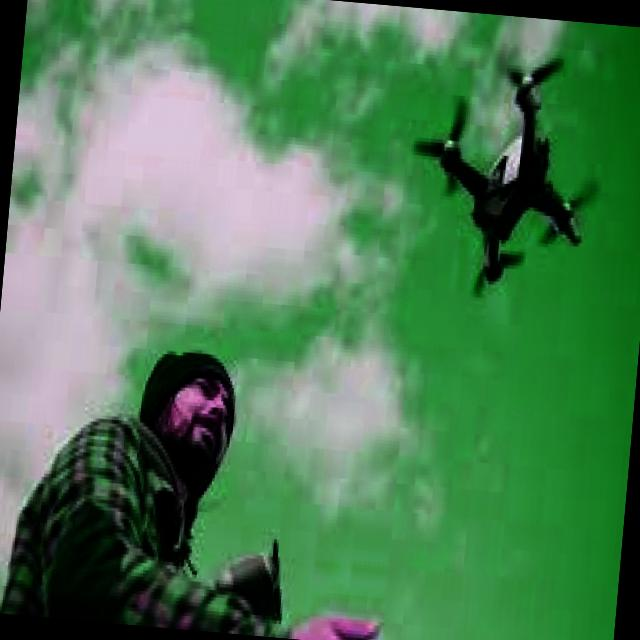drone: (404, 51, 620, 308)
